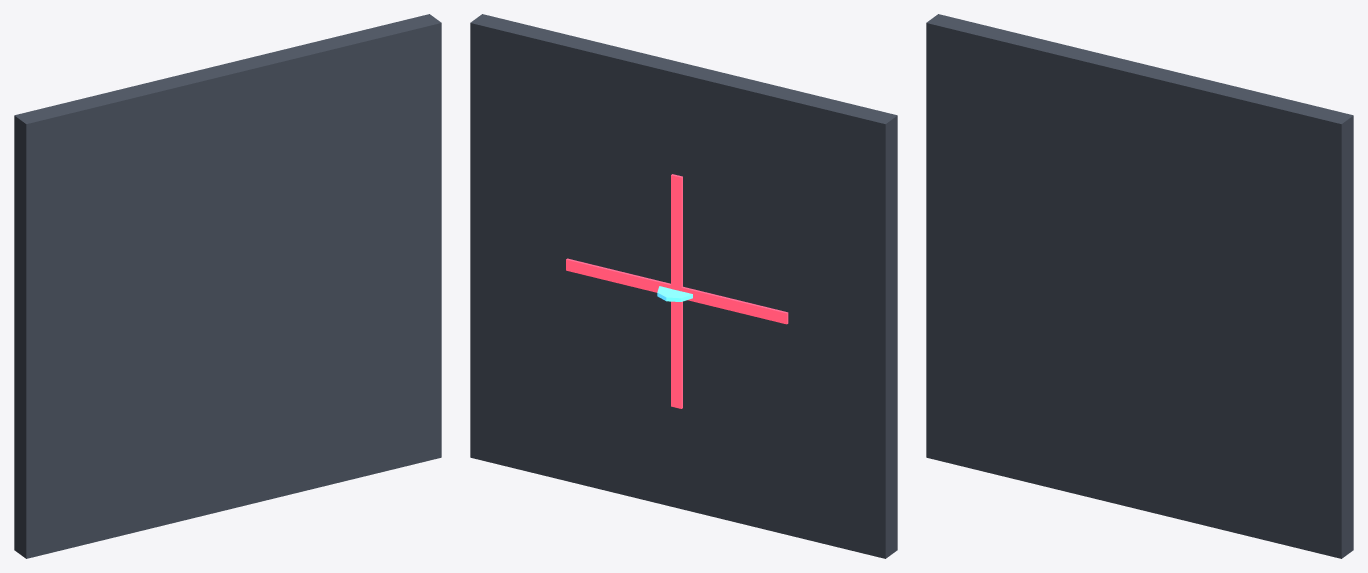
Rendered from corridor_floor_rune_3p946.glb.
3 renders of one model, left to right at view 1: azimuth 30°, elevation 25°; view 2: azimuth 150°, elevation 25°; view 3: azimuth 330°, elevation 25°, orthographic.
Visible parts, largest first — view 1: Floor.006; view 2: Floor.006, RuneZ.001, RuneX.001; view 3: Floor.006.
Part boxes in pixels (x1,y1,x2,y2): Floor.006: [14, 14, 441, 558]; Floor.006: [470, 14, 897, 558]; RuneZ.001: [671, 174, 682, 408]; RuneX.001: [566, 258, 788, 324]; Floor.006: [926, 14, 1353, 558].
Bounding box in the file's own units: 3.95 × 3.95 × 0.39.
